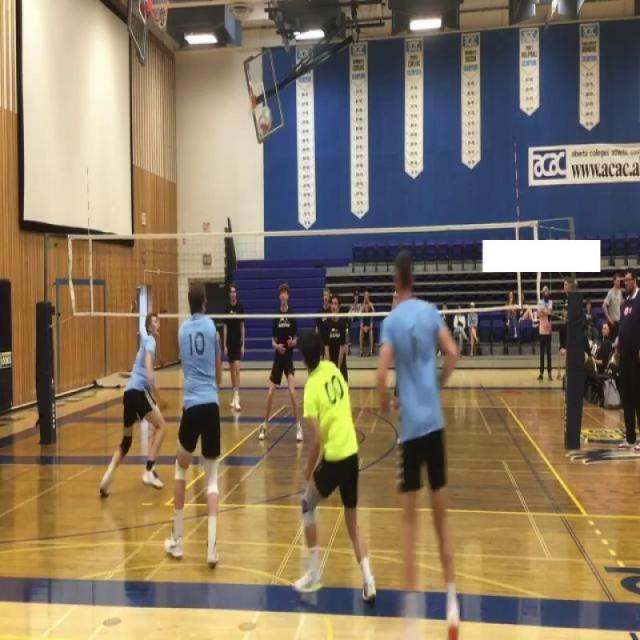volleyball: (256, 106, 274, 136)
